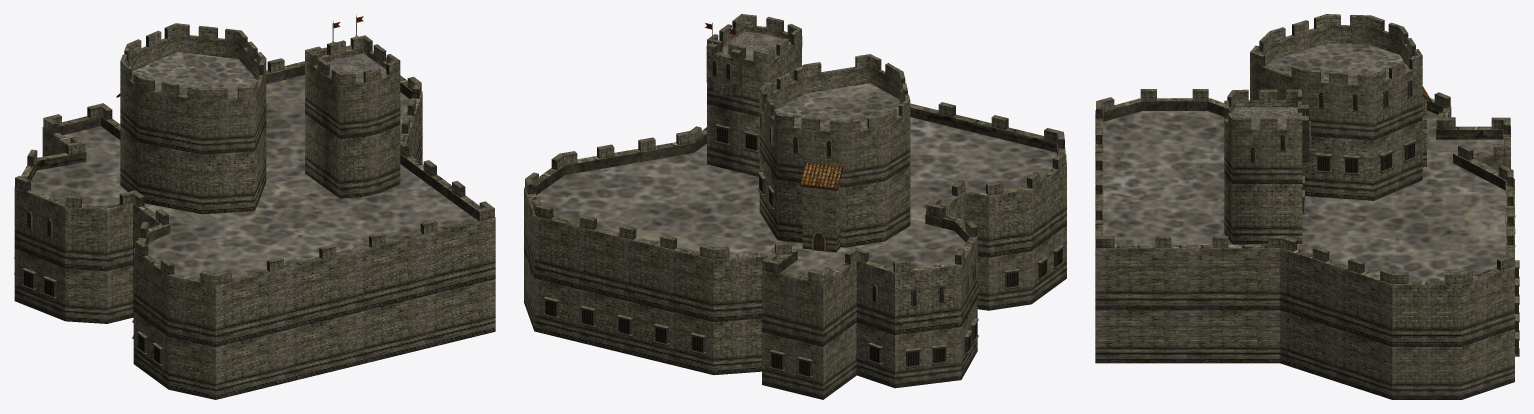
The model's file is shijieditu_04.FBX.
The picture shows the model from 3 angles, left to right: view 1: azimuth 30°, elevation 25°; view 2: azimuth 150°, elevation 25°; view 3: azimuth 270°, elevation 25°; orthographic projection.
Visible parts, largest first — view 1: shijieditu_04; view 2: shijieditu_04; view 3: shijieditu_04.
Boxes of the visible parts, left/top/right/bottom form: shijieditu_04: left=14, top=14, right=495, bottom=399; shijieditu_04: left=524, top=14, right=1066, bottom=399; shijieditu_04: left=1095, top=14, right=1519, bottom=399.
Size of the model in its own units: 113 by 66.57 by 102.
